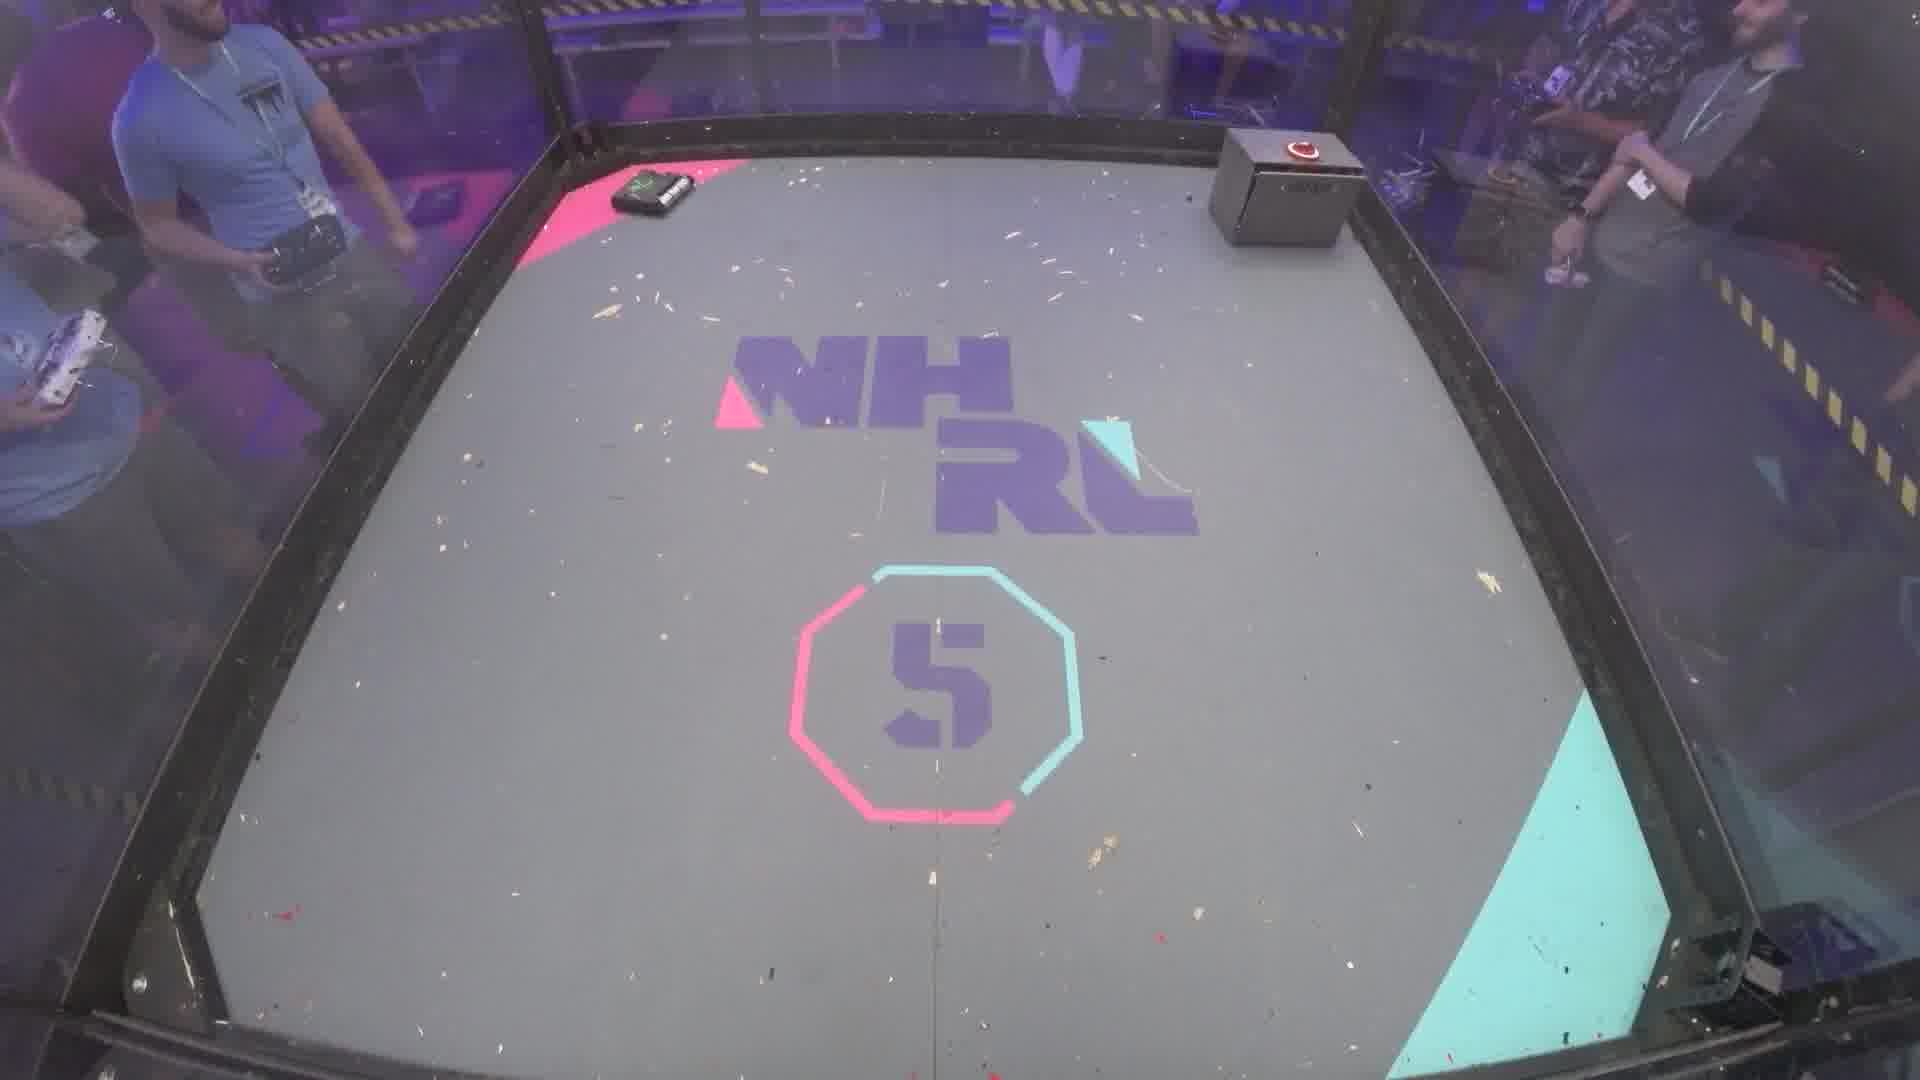combatbot: (607, 166, 699, 219)
housebot: (1211, 131, 1369, 256)
